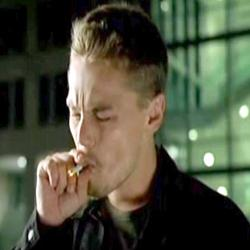cigarro: (56, 158, 98, 184)
fumador: (18, 0, 188, 250)
